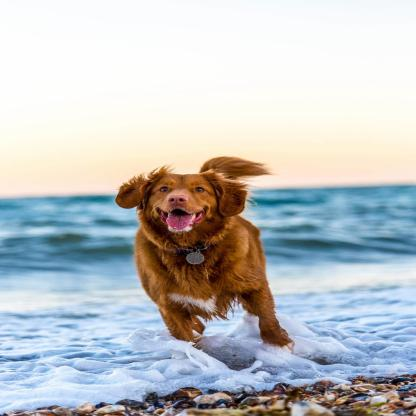dog: (114, 156, 295, 347)
